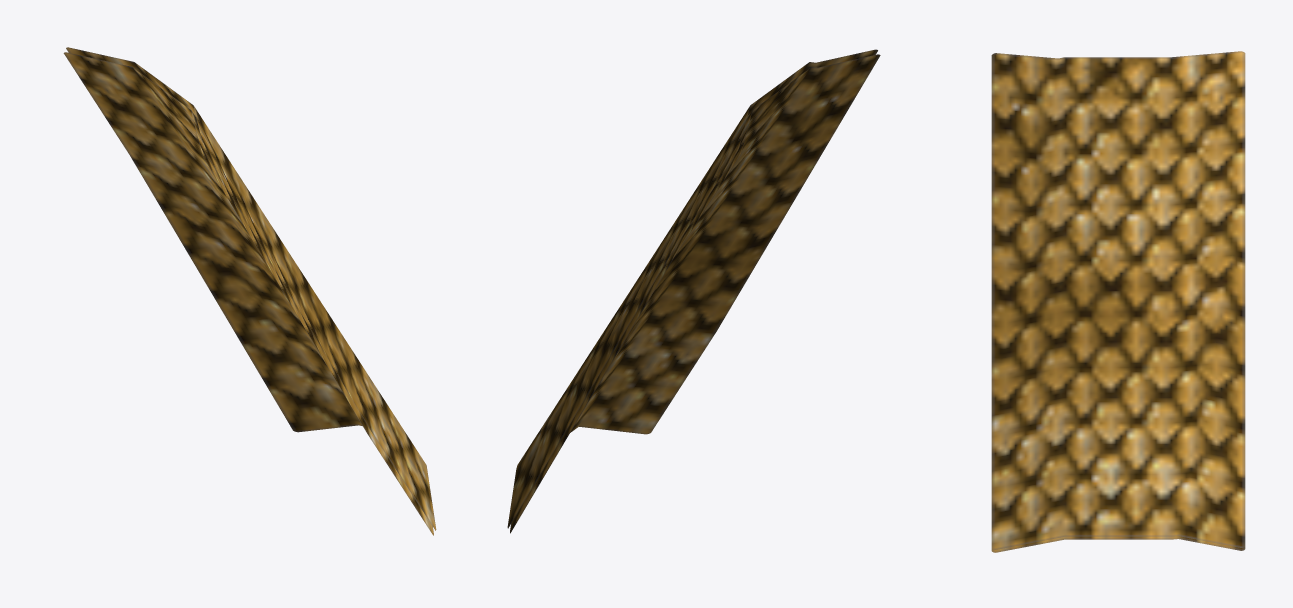
The model's file is arm_left.dae.
3 renders of one model, left to right at view 1: azimuth 30°, elevation 25°; view 2: azimuth 150°, elevation 25°; view 3: azimuth 270°, elevation 25°, orthographic. The views are drawn at different scales.
Parts seen in each view (by area): view 1: Plane002; view 2: Plane002; view 3: Plane002.
Boxes of the visible parts, x1,y1,x2,y2 form: Plane002: (63, 47, 436, 535); Plane002: (507, 49, 880, 533); Plane002: (991, 51, 1245, 552).
Bounding box in the file's own units: 0.37 × 0.5966 × 0.366.
